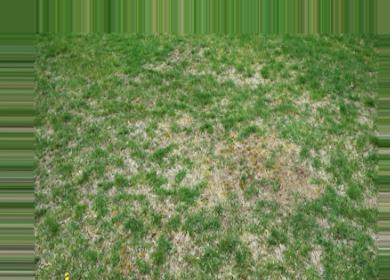patch: (202, 165, 235, 195), (288, 187, 319, 202), (249, 166, 277, 178), (176, 237, 192, 251), (165, 170, 179, 180), (286, 169, 297, 177), (174, 260, 183, 267)
